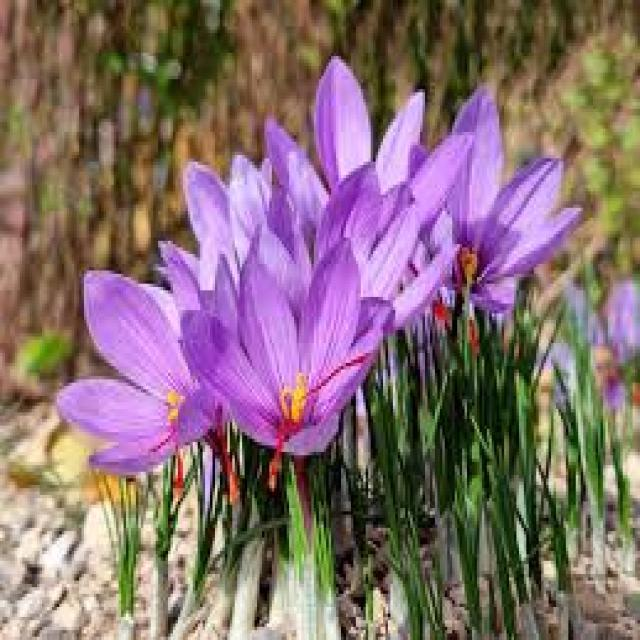Flower: (194, 277, 380, 470), (431, 112, 582, 332), (66, 274, 220, 478), (251, 49, 422, 196), (243, 185, 416, 300)
stigma: (262, 366, 322, 474), (316, 337, 368, 392)
